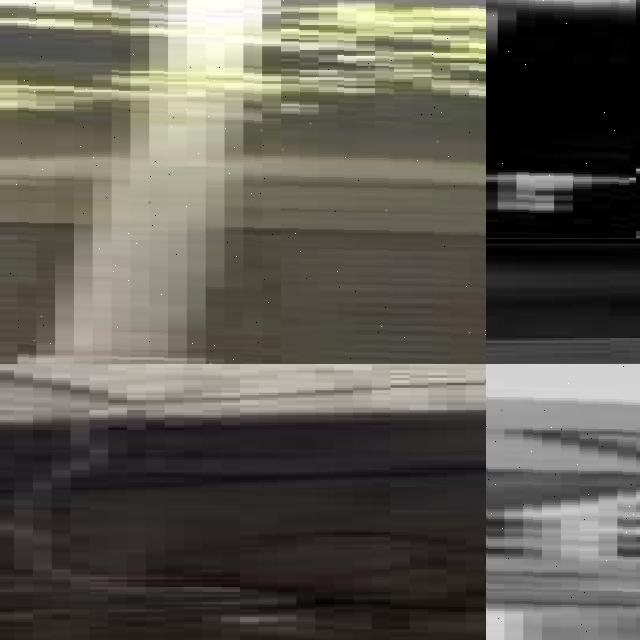street light: (0, 0, 486, 364), (486, 364, 640, 640), (486, 0, 636, 237)
